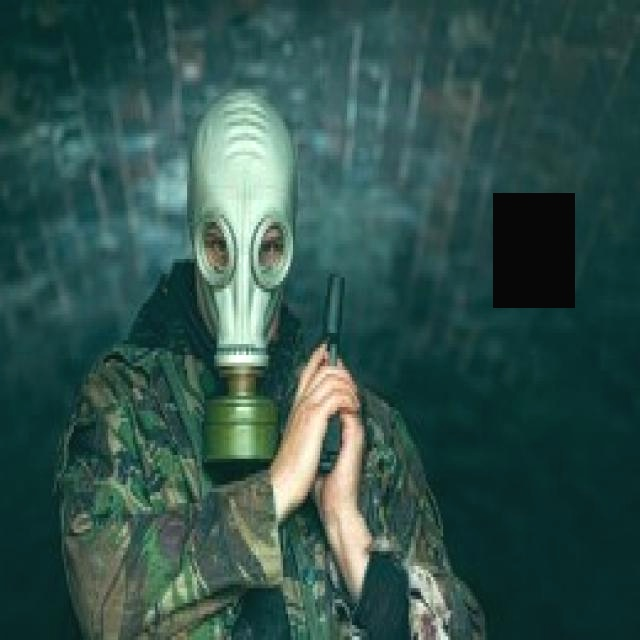gun: (292, 258, 367, 495)
